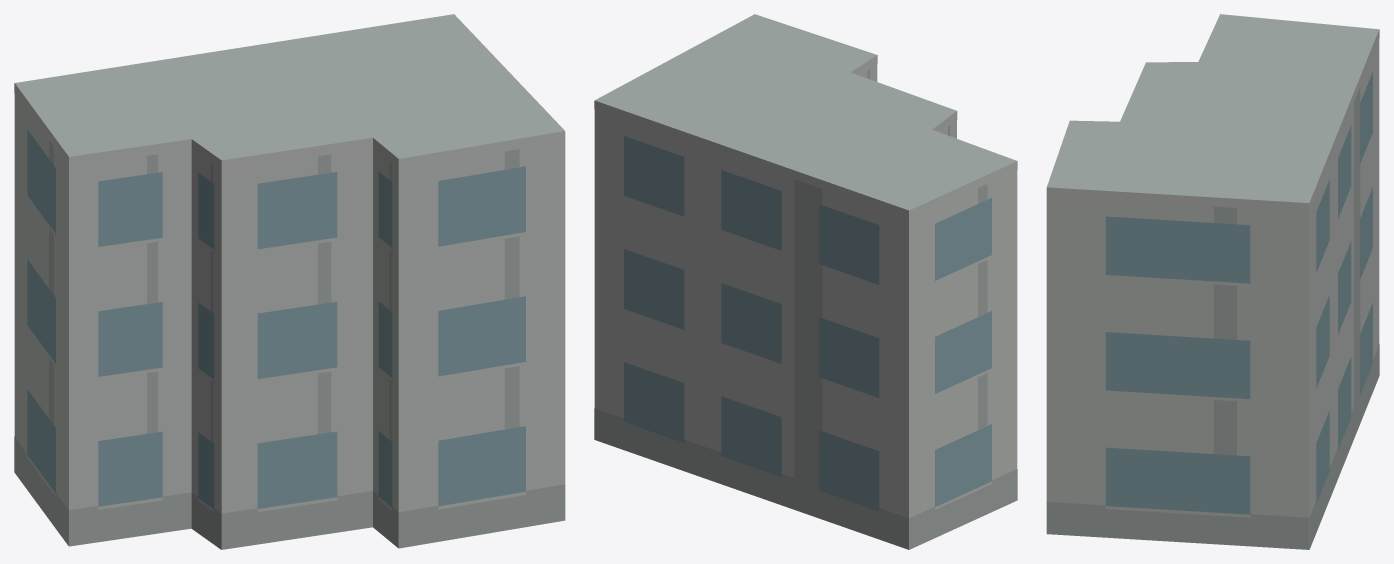
File: survey-upis-32793930.glb
3 views of the same model, side by side, from view 1: azimuth 30°, elevation 25°; view 2: azimuth 150°, elevation 25°; view 3: azimuth 270°, elevation 25° (orthographic). The views are drawn at different scales.
Visible parts, largest first — view 1: survey-upis-32793930.tmp; view 2: survey-upis-32793930.tmp; view 3: survey-upis-32793930.tmp.
Boxes of the visible parts, x1,y1,x2,y2 form: survey-upis-32793930.tmp: (14,14,565,549); survey-upis-32793930.tmp: (594,14,1017,549); survey-upis-32793930.tmp: (1046,14,1379,549).
Size of the model in its own units: 10.71 by 9.15 by 7.97.
